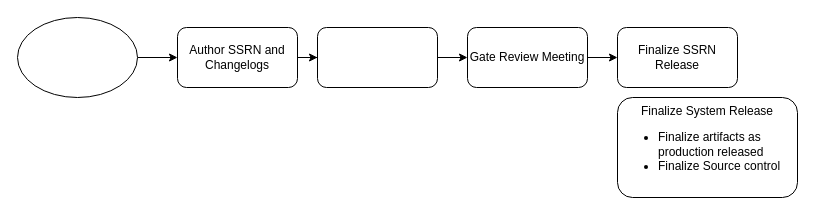
Image size: 815x215. Some labels were removed from this diagram. The box of each missing label's shape, as (x1, y1, x2, y2) in pixels:
Product Ready for Release: (16, 16, 138, 98)
Submit Final Test Report: (316, 26, 438, 88)
